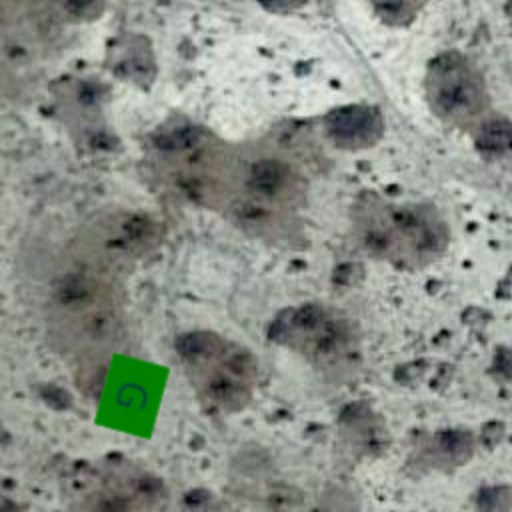rectangle: (84, 348, 180, 444)
